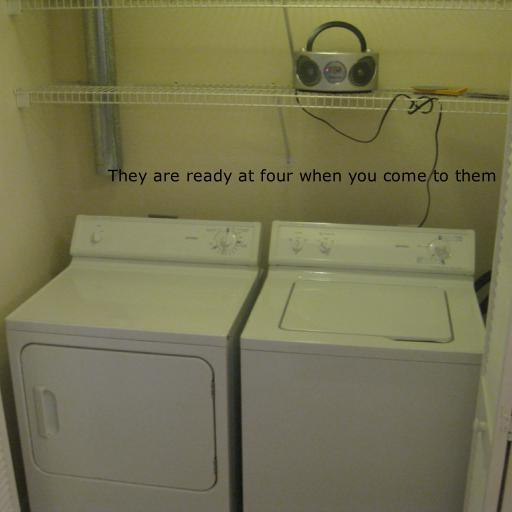Verdana: (107, 169, 497, 185)
